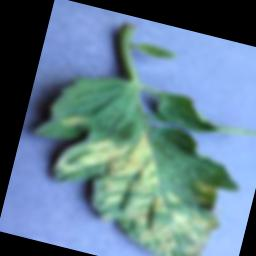Leaf_Mold: (31, 108, 239, 256)
